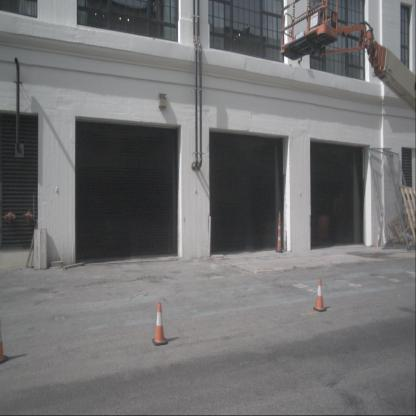cone: (152, 302, 168, 346), (313, 278, 327, 312), (0, 322, 9, 364), (275, 211, 283, 253)
